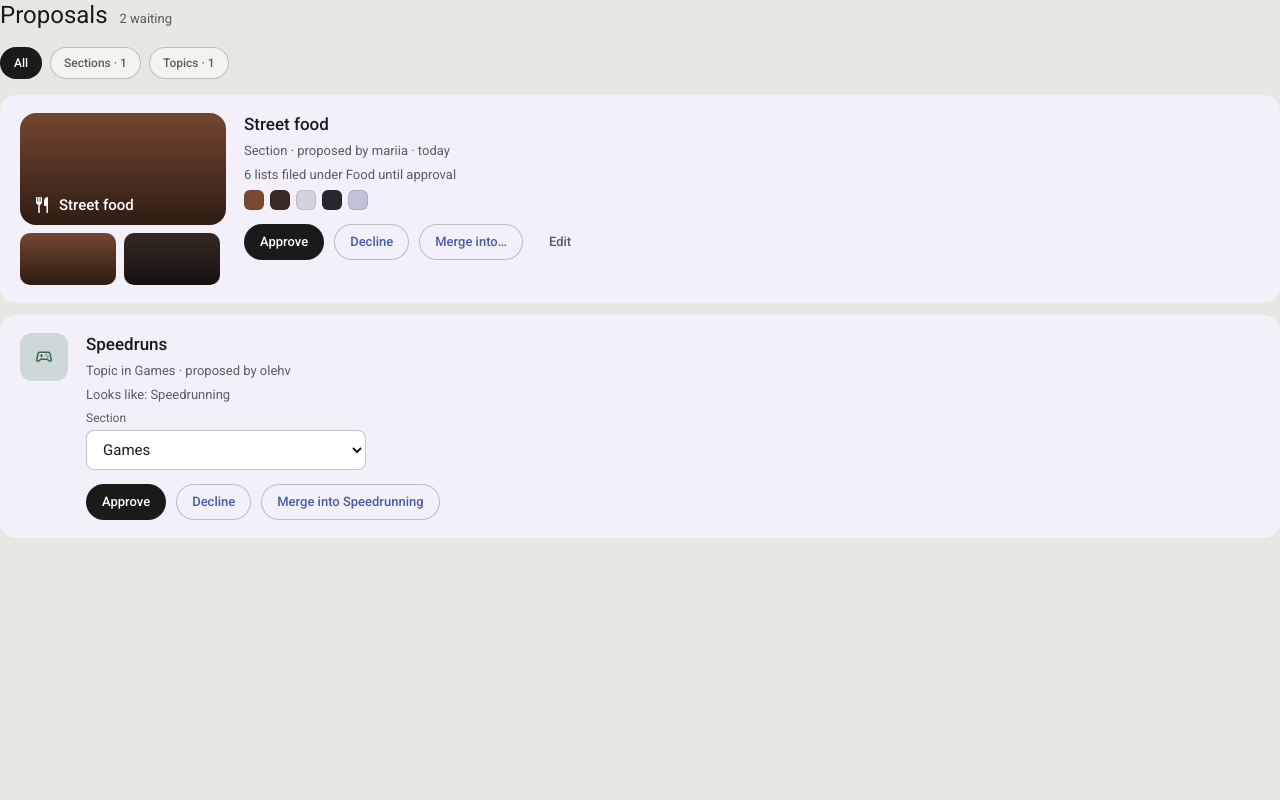
Test: ProposalsPane › lets the owner edit a proposal in a side sheet, and keeps its card in the queue
Click the button "Edit" at (560, 242), box [533,224,587,260]
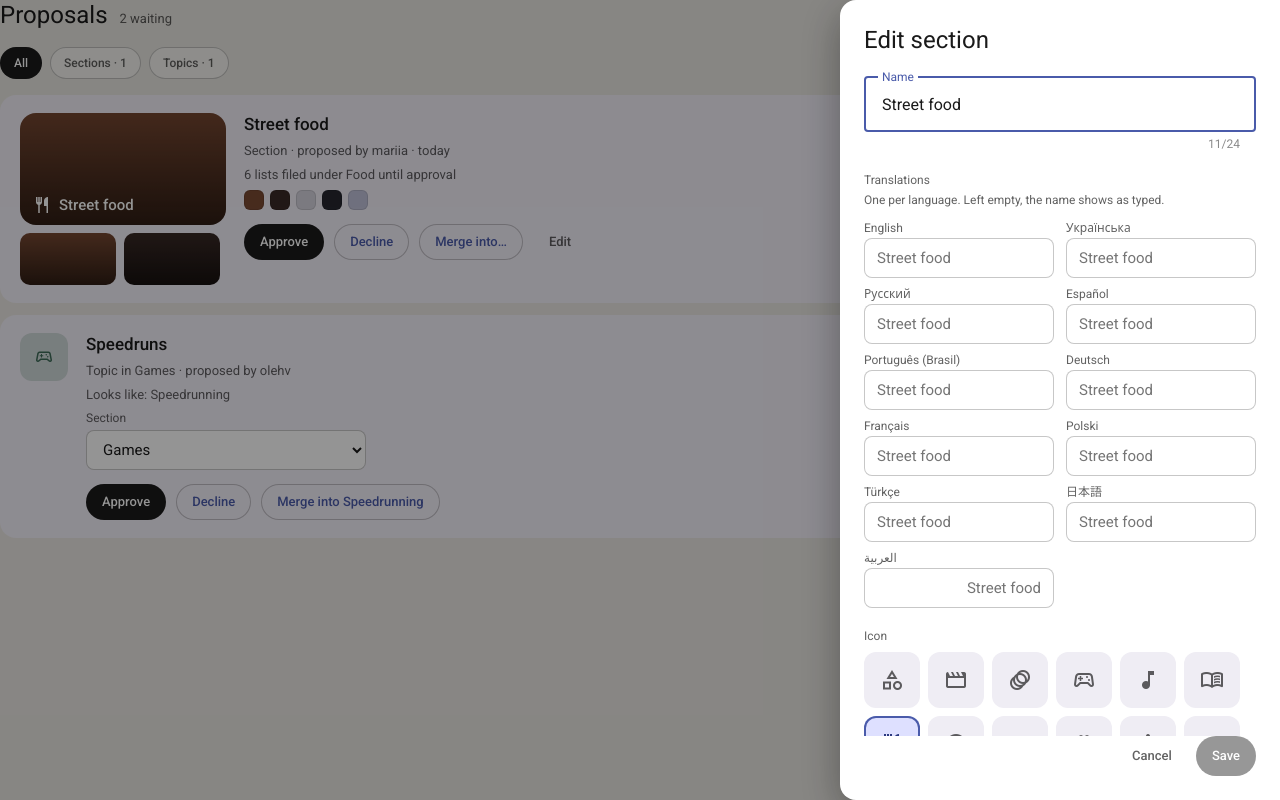
Expected: the field labelled "Name" holds "Street food"
Type "Street eats" into the field labelled "Name" at (1060, 104), box [866,78,1254,130]
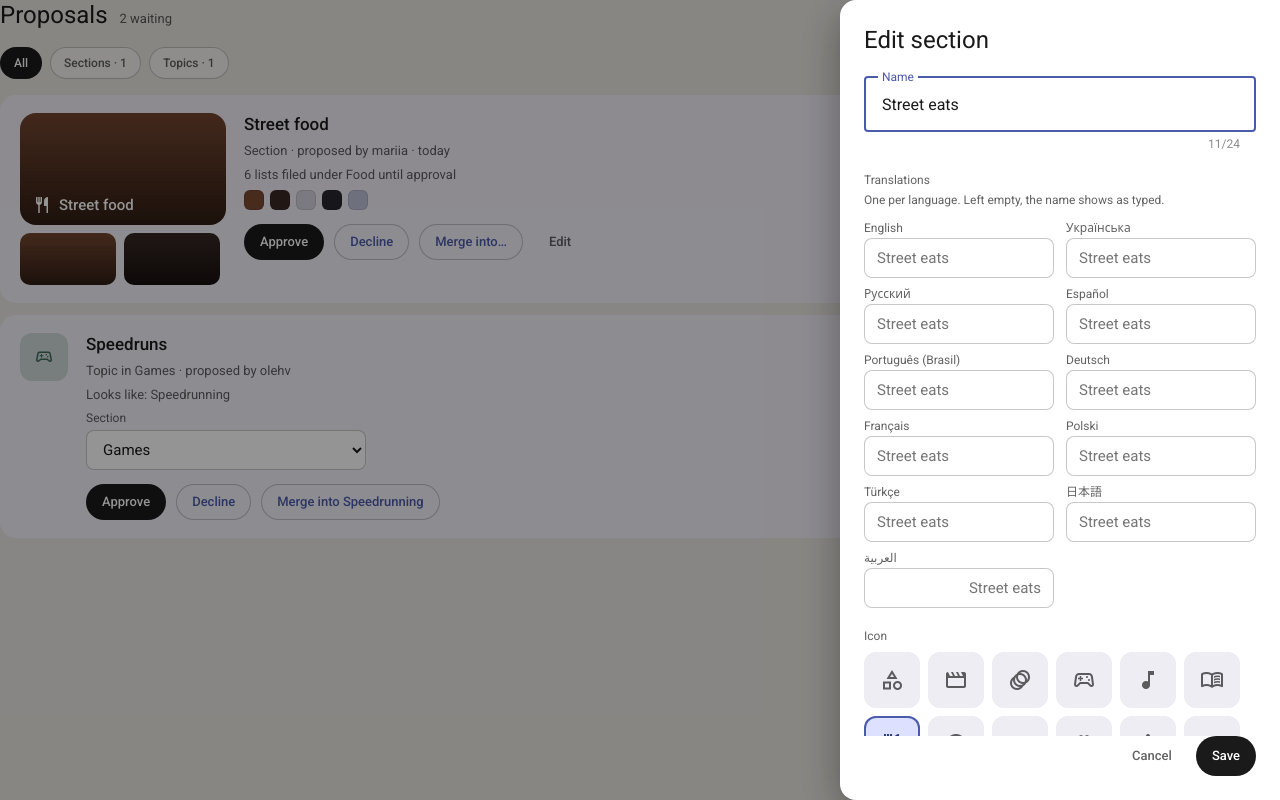
Click the button "Save" at (1226, 756), box [1196,736,1256,776]
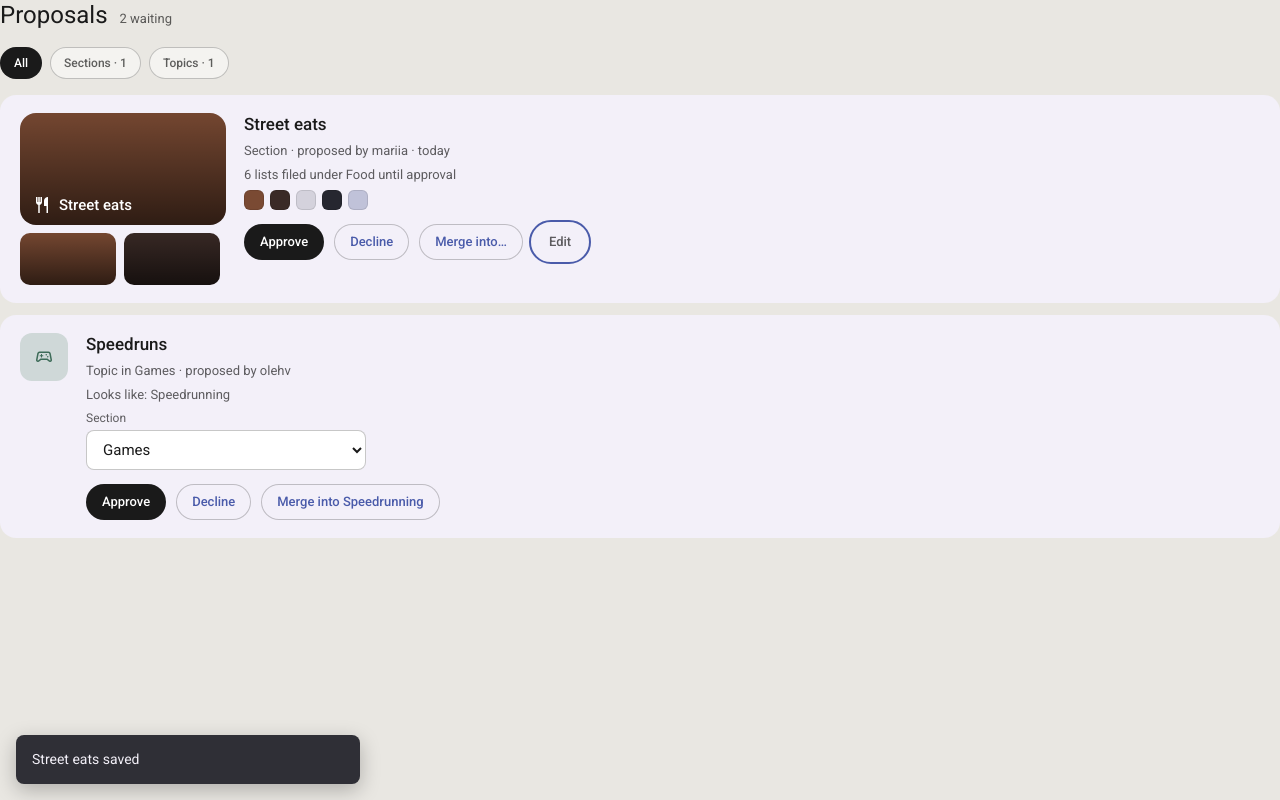
Expected: the text "6 lists filed under Food until approval" is shown, [244,167,456,182]
Expected: the text "Street eats saved" is shown, [32,749,140,770]
Expected: the dialog is gone
